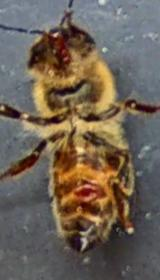varroa_mite: (68, 179, 104, 204)
